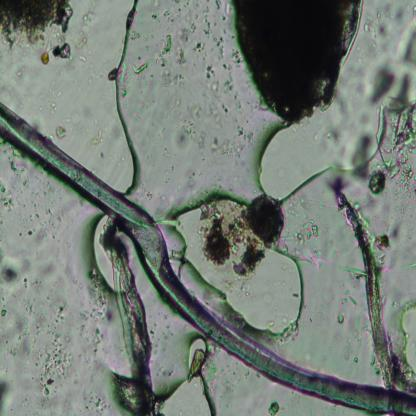Air bubble: (173, 196, 306, 340)
Background material: (231, 0, 372, 127), (196, 195, 285, 278), (366, 92, 416, 194), (367, 24, 416, 111), (0, 0, 77, 55), (38, 330, 75, 399), (198, 26, 235, 93), (391, 302, 416, 384), (156, 29, 187, 91), (23, 297, 50, 356), (346, 130, 373, 184), (373, 233, 399, 285), (72, 9, 97, 62), (345, 308, 373, 352), (34, 208, 66, 246), (387, 199, 416, 236), (170, 118, 199, 151), (315, 121, 344, 150), (92, 281, 112, 323), (331, 255, 363, 281), (81, 388, 109, 416), (176, 9, 198, 43), (0, 252, 21, 286), (189, 348, 211, 379), (36, 176, 60, 204), (338, 278, 360, 305), (297, 219, 322, 241), (7, 150, 25, 180), (0, 374, 14, 412), (126, 73, 150, 95), (223, 138, 244, 162), (206, 360, 220, 396), (130, 56, 150, 76), (0, 187, 16, 212), (92, 327, 106, 355), (236, 124, 254, 145), (118, 66, 127, 108), (209, 100, 222, 127), (54, 300, 68, 324), (38, 261, 56, 279), (202, 5, 212, 36), (209, 134, 223, 155), (19, 210, 34, 228), (231, 47, 243, 69), (92, 128, 104, 148), (53, 122, 66, 140), (334, 170, 342, 198), (104, 66, 118, 82), (198, 130, 208, 152), (190, 104, 204, 119), (162, 7, 175, 23), (88, 66, 100, 82), (128, 28, 140, 44), (268, 399, 279, 416), (21, 258, 34, 272), (232, 92, 242, 110), (72, 274, 84, 288), (196, 40, 206, 54), (22, 176, 31, 191), (20, 398, 31, 410), (78, 309, 90, 320), (336, 309, 344, 325), (143, 188, 154, 199), (48, 102, 58, 114), (7, 346, 19, 356), (82, 325, 88, 343), (29, 198, 38, 210), (134, 109, 144, 119), (266, 317, 275, 328), (189, 178, 196, 192), (30, 282, 44, 288), (214, 0, 222, 10), (222, 104, 229, 115), (174, 99, 182, 108), (78, 197, 84, 208), (0, 308, 8, 316), (23, 278, 29, 288), (149, 330, 156, 338), (55, 90, 62, 98), (174, 0, 184, 5), (154, 14, 160, 22), (352, 356, 358, 363), (151, 119, 155, 128), (169, 370, 174, 376), (26, 230, 32, 235), (170, 165, 174, 172), (0, 219, 5, 224), (223, 14, 226, 22), (146, 154, 150, 160), (146, 44, 149, 52), (4, 340, 8, 345), (2, 295, 5, 301), (35, 363, 39, 367), (19, 232, 22, 236), (232, 36, 235, 38)
Cellulose filter fibre: (334, 190, 395, 388), (105, 231, 162, 416)
Microfibre: (0, 99, 416, 416)
